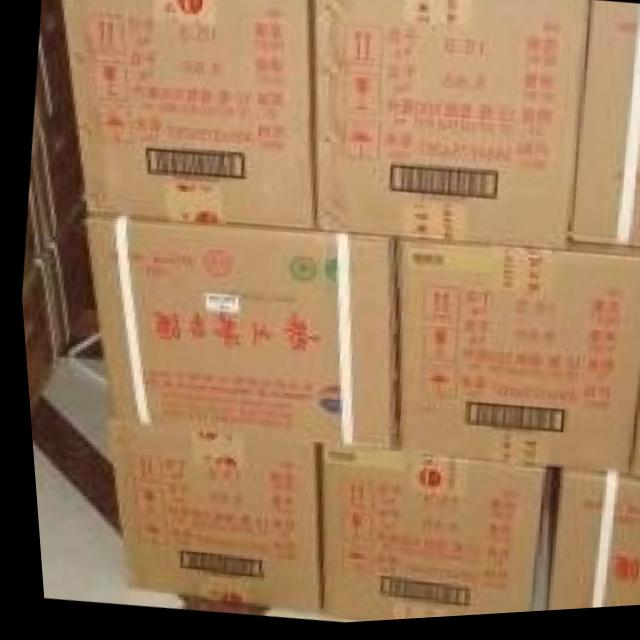box: (83, 214, 393, 456), (310, 0, 591, 259), (389, 246, 640, 480), (62, 0, 310, 232), (312, 444, 544, 626), (101, 420, 310, 615), (566, 7, 640, 254), (535, 474, 640, 617), (19, 114, 79, 272), (36, 196, 89, 355), (17, 251, 59, 416), (29, 0, 73, 154), (620, 334, 640, 487)
